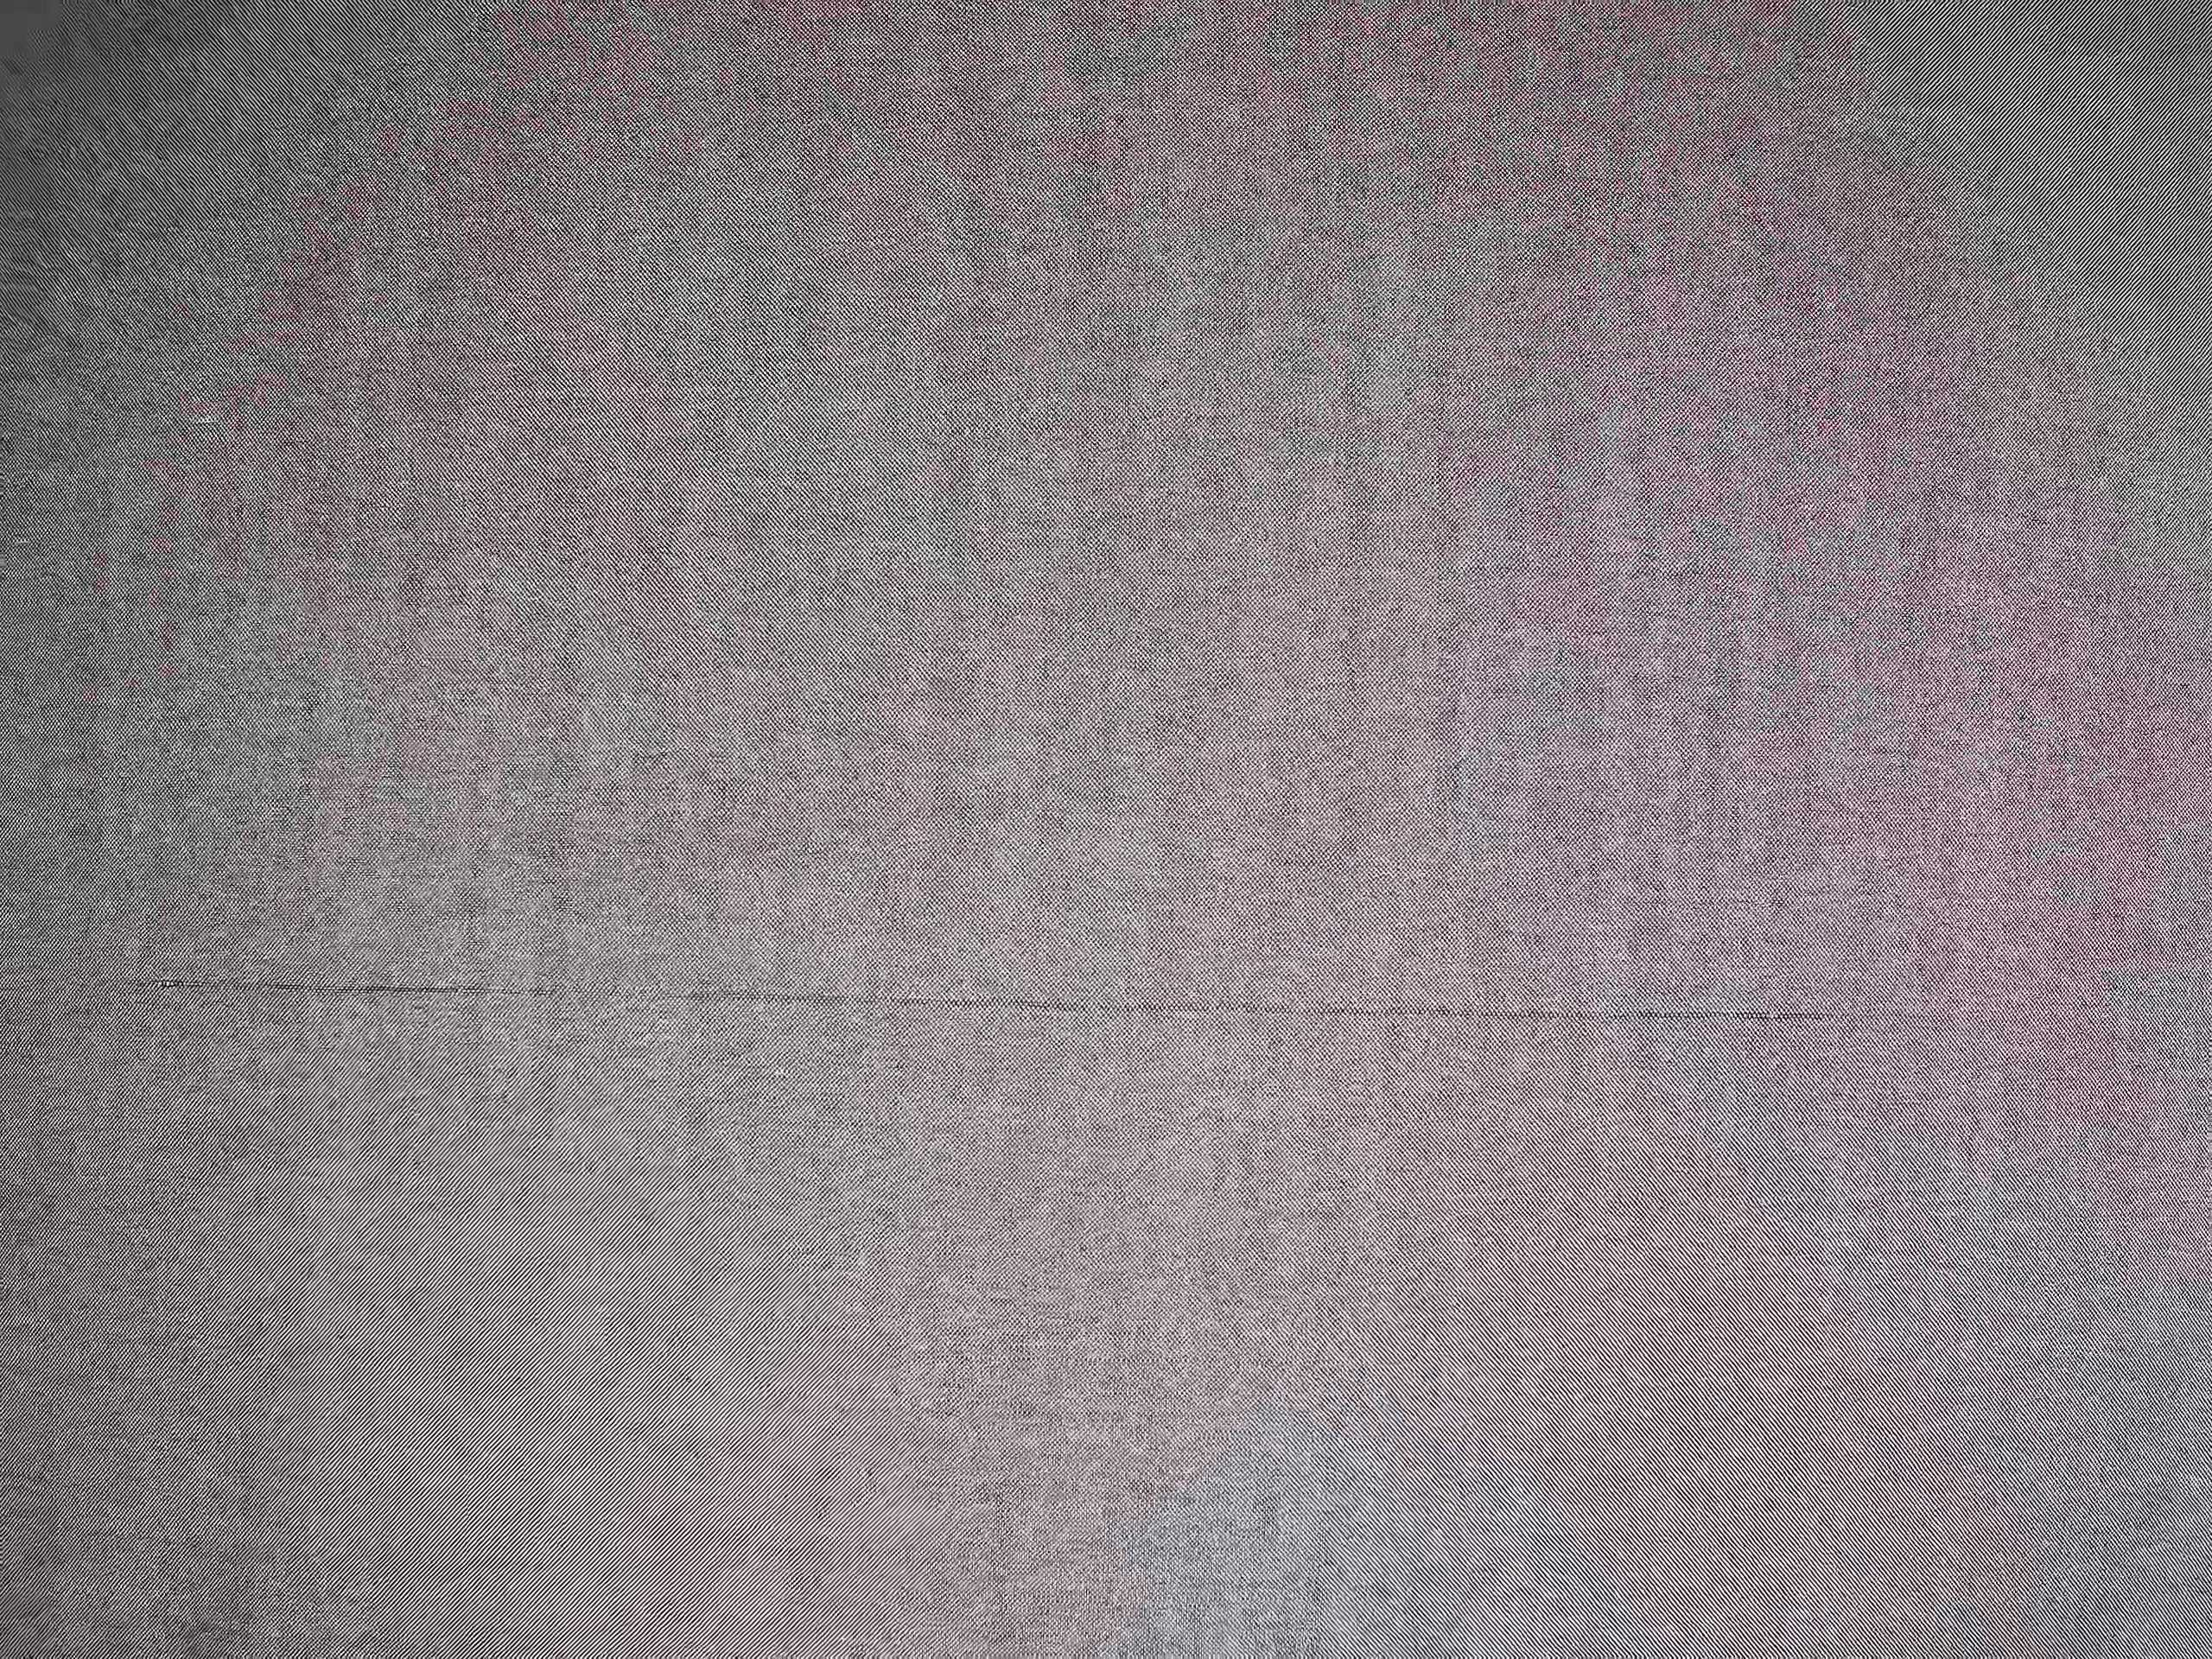thin-spinning: (84, 962, 1851, 1039)
